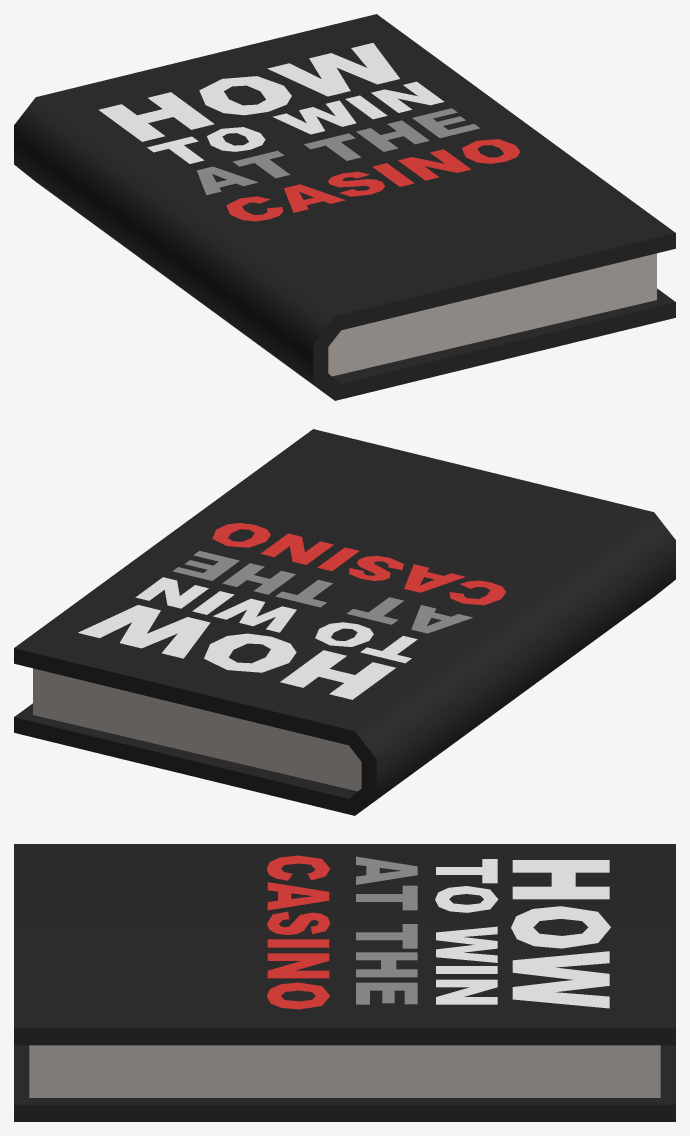
Rendered from book_01.glb.
3 renders of one model, top to bottom at view 1: azimuth 30°, elevation 25°; view 2: azimuth 150°, elevation 25°; view 3: azimuth 270°, elevation 25°, orthographic. The views are drawn at different scales.
Visible parts, largest first — view 1: Book_01; view 2: Book_01; view 3: Book_01.
Boxes of the visible parts, <box> form: Book_01: <box>14,14,675,400</box>; Book_01: <box>14,429,675,815</box>; Book_01: <box>14,844,675,1121</box>.
Size of the model in its own units: 0.2983 by 0.0677 by 0.4263.
1 material, 1 textured.
